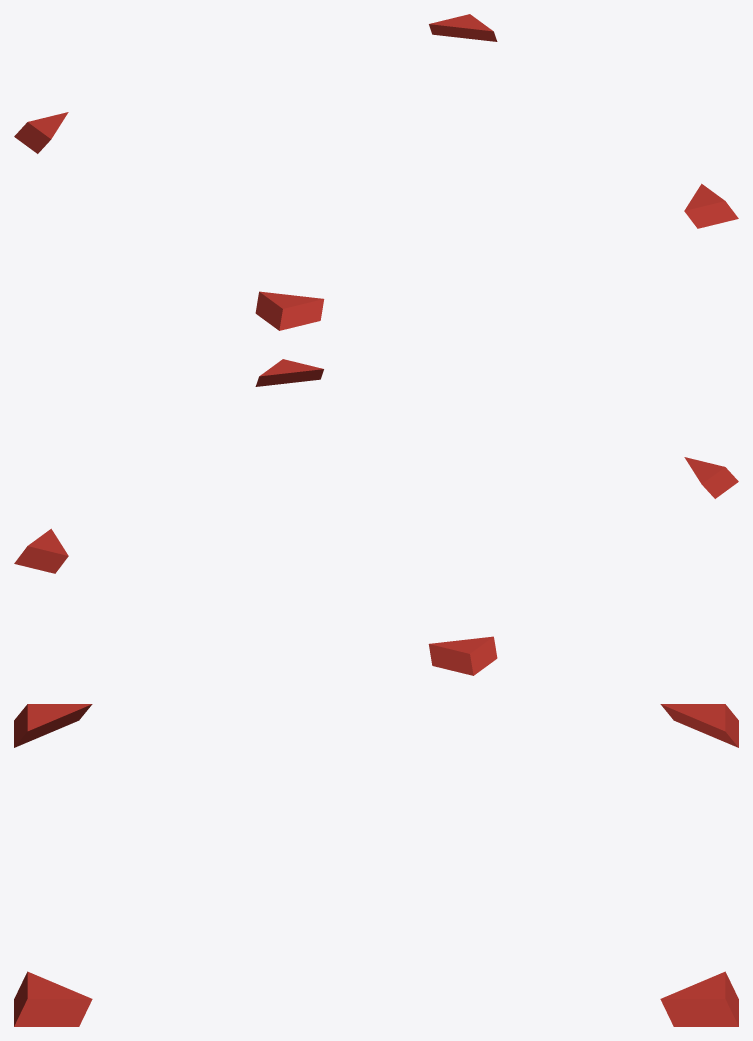
The picture shows the model from 3 angles, top to bottom: view 1: azimuth 30°, elevation 25°; view 2: azimuth 150°, elevation 25°; view 3: azimuth 270°, elevation 25°; orthographic projection. The views are drawn at different scales.
Visible parts, largest first — view 1: Stage; view 2: Stage; view 3: Stage.
Boxes of the visible parts, left/top/right/bottom form: Stage: left=14, top=14, right=738, bottom=330; Stage: left=14, top=359, right=738, bottom=675; Stage: left=14, top=704, right=738, bottom=1026.
Bounding box in the file's own units: 88.6 × 3 × 88.6.
